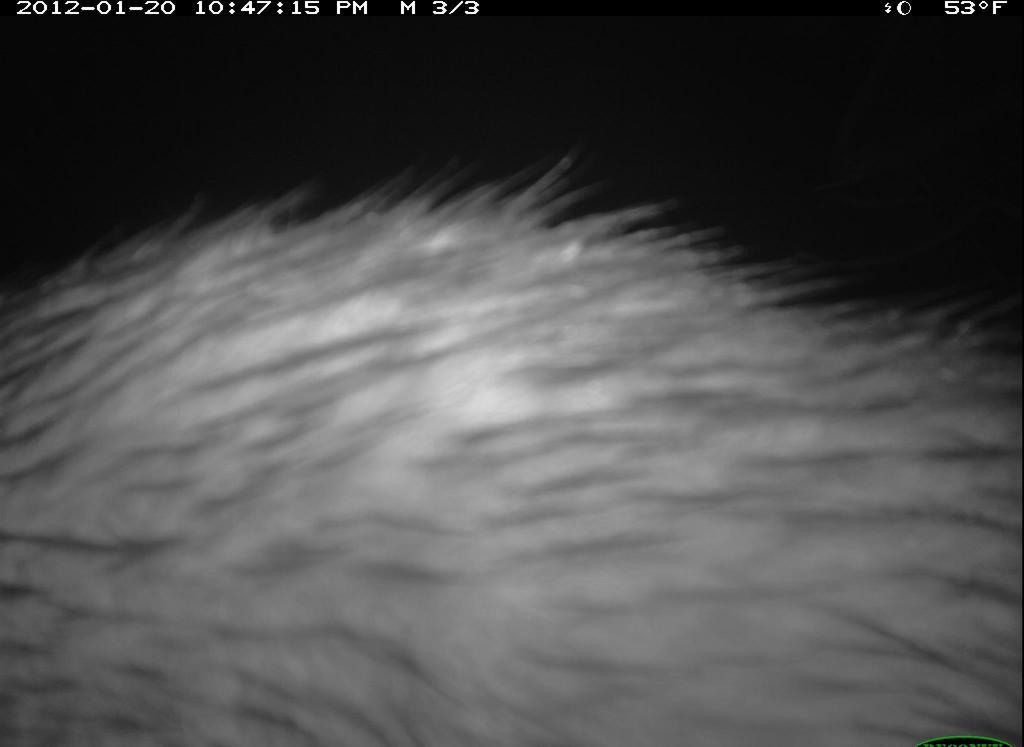raccoon: (4, 144, 1023, 747)
